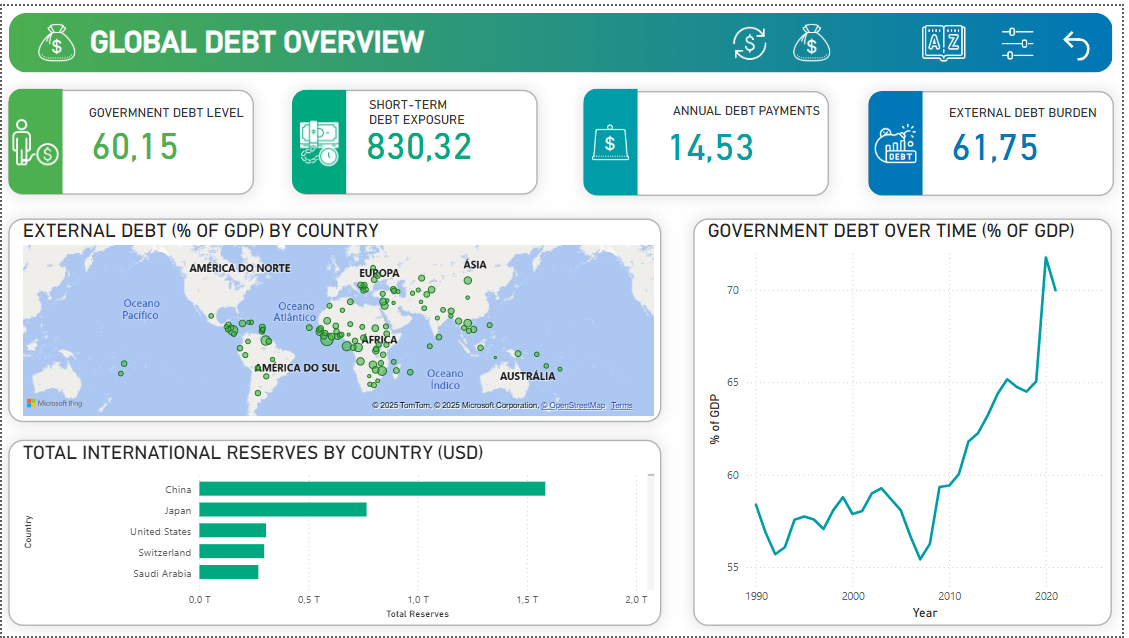

Layout of this report page (visuals, bound fields, positions):
{"tool":"powerbi","page":{"name":"Global Debt Overview","canvas":[1280,720],"ordinal":1},"visuals":[{"type":"image","title":"Title Background","box":[7,7,1263.1,70],"z":0},{"type":"textbox","title":"GLOBAL DEBT OVERVIEW","box":[95.7,21.4,1122.9,74.3],"z":1000},{"type":"image","title":"Filter","box":[1117.5,18.8,87.5,48.8],"z":2000},{"type":"actionButton","title":"No Filter Button","box":[1205,22.5,52.5,45],"z":3000},{"type":"actionButton","title":"Filter Button","box":[1117.7,7.7,87.3,68.6],"z":4000},{"type":"card","fields":{"Values":["Avg(Aggregated_Indicators.ExternalDebtStocks)"]},"box":[990.5,96.9,280.5,120],"z":6000},{"type":"card","fields":{"Values":["Avg(Aggregated_Indicators.ShortTermDebt)"]},"box":[331.2,95.5,280.8,120.1],"z":7000},{"type":"card","fields":{"Values":["Avg(Aggregated_Indicators.TotalDebtService)"]},"box":[663.8,96.7,281,120],"z":8000},{"type":"card","fields":{"Values":["Avg(Aggregated_Indicators.CentralGovDebt)"]},"box":[7.2,95.4,280.5,120],"z":9000},{"type":"shape","box":[7,94.6,62.6,121],"z":10000},{"type":"shape","box":[331.1,96,62.6,119.7],"z":11000},{"type":"shape","box":[663.7,94.6,62.6,122.4],"z":12000},{"type":"shape","box":[990.6,97.4,62.6,119.7],"z":13000},{"type":"image","title":"Glossary","box":[1037.8,11.9,79.4,60.9],"z":14000},{"type":"actionButton","title":"Glossary Button","box":[1037.8,6.6,79.4,70.2],"z":15000},{"type":"textbox","title":"GOVERMNENT DEBT LEVEL","box":[94.6,112.4,192.9,103.5],"z":16000},{"type":"textbox","title":"SHORT-TERM DEBT EXPOSURE","box":[414,104,134,113],"z":17000},{"type":"textbox","title":"ANNUAL DEBT PAYMENTS","box":[761,112,185,105],"z":18000},{"type":"textbox","title":"EXTERNAL DEBT BURDEN","box":[1077,113,193,104],"z":19000},{"type":"lineChart","title":"GOVERNMENT DEBT OVER TIME (% OF GDP)","fields":{"Y":["Avg(Aggregated_Indicators.CentralGovDebt)"],"Category":["Aggregated_Indicators.year"]},"box":[790.7,242.9,478.4,466],"z":20000},{"type":"map","title":"EXTERNAL DEBT (% OF GDP) BY COUNTRY","fields":{"Category":["Aggregated_Indicators.Country"],"Size":["Avg(Aggregated_Indicators.ExternalDebtStocks)"]},"box":[7.4,242.9,746.1,233],"z":21000},{"type":"clusteredBarChart","title":"TOTAL INTERNATIONAL  RESERVES BY COUNTRY (USD)","fields":{"Category":["Aggregated_Indicators.Country"],"Y":["Avg(Aggregated_Indicators.TotalReserves)"]},"box":[7.4,495.7,746.1,213.2],"z":22000},{"type":"image","box":[821.4,14.3,65.7,57.1],"z":23000},{"type":"image","box":[331.4,97.1,62.9,120],"z":26000},{"type":"image","box":[7.1,95.7,62.9,120],"z":27000},{"type":"image","box":[990,97.1,62.9,120],"z":28000},{"type":"image","box":[664.3,97.1,62.9,120],"z":29000},{"type":"image","box":[31.4,7.1,62.9,68.6],"z":30000},{"type":"image","box":[894.3,7.1,62.9,68.6],"z":31000},{"type":"actionButton","title":"Overview Button","box":[812.9,8.6,81.4,70],"z":31125}]}

Visuals, with their boxes in screenshot pixels (x1, y1, x2, y2), scaled from the page's 1280x720 canvas onto the 1129x638 screenshot:
"Title Background" image: crop(6, 6, 1120, 68)
"GLOBAL DEBT OVERVIEW" textbox: crop(84, 19, 1075, 85)
"Filter" image: crop(986, 17, 1063, 60)
"No Filter Button" actionButton: crop(1063, 20, 1109, 60)
"Filter Button" actionButton: crop(986, 7, 1063, 68)
card - Avg(Aggregated_Indicators.ExternalDebtStocks): crop(874, 86, 1121, 192)
card - Avg(Aggregated_Indicators.ShortTermDebt): crop(292, 85, 540, 191)
card - Avg(Aggregated_Indicators.TotalDebtService): crop(585, 86, 833, 192)
card - Avg(Aggregated_Indicators.CentralGovDebt): crop(6, 85, 254, 191)
shape: crop(6, 84, 61, 191)
shape: crop(292, 85, 347, 191)
shape: crop(585, 84, 641, 192)
shape: crop(874, 86, 929, 192)
"Glossary" image: crop(915, 11, 985, 65)
"Glossary Button" actionButton: crop(915, 6, 985, 68)
"GOVERMNENT DEBT LEVEL" textbox: crop(83, 100, 254, 191)
"SHORT-TERM DEBT EXPOSURE" textbox: crop(365, 92, 483, 192)
"ANNUAL DEBT PAYMENTS" textbox: crop(671, 99, 834, 192)
"EXTERNAL DEBT BURDEN" textbox: crop(950, 100, 1120, 192)
"GOVERNMENT DEBT OVER TIME (% OF GDP)" lineChart: crop(697, 215, 1119, 628)
"EXTERNAL DEBT (% OF GDP) BY COUNTRY" map: crop(7, 215, 665, 422)
"TOTAL INTERNATIONAL  RESERVES BY COUNTRY (USD)" clusteredBarChart: crop(7, 439, 665, 628)
image: crop(725, 13, 782, 63)
image: crop(292, 86, 348, 192)
image: crop(6, 85, 62, 191)
image: crop(873, 86, 929, 192)
image: crop(586, 86, 641, 192)
image: crop(28, 6, 83, 67)
image: crop(789, 6, 844, 67)
"Overview Button" actionButton: crop(717, 8, 789, 70)
